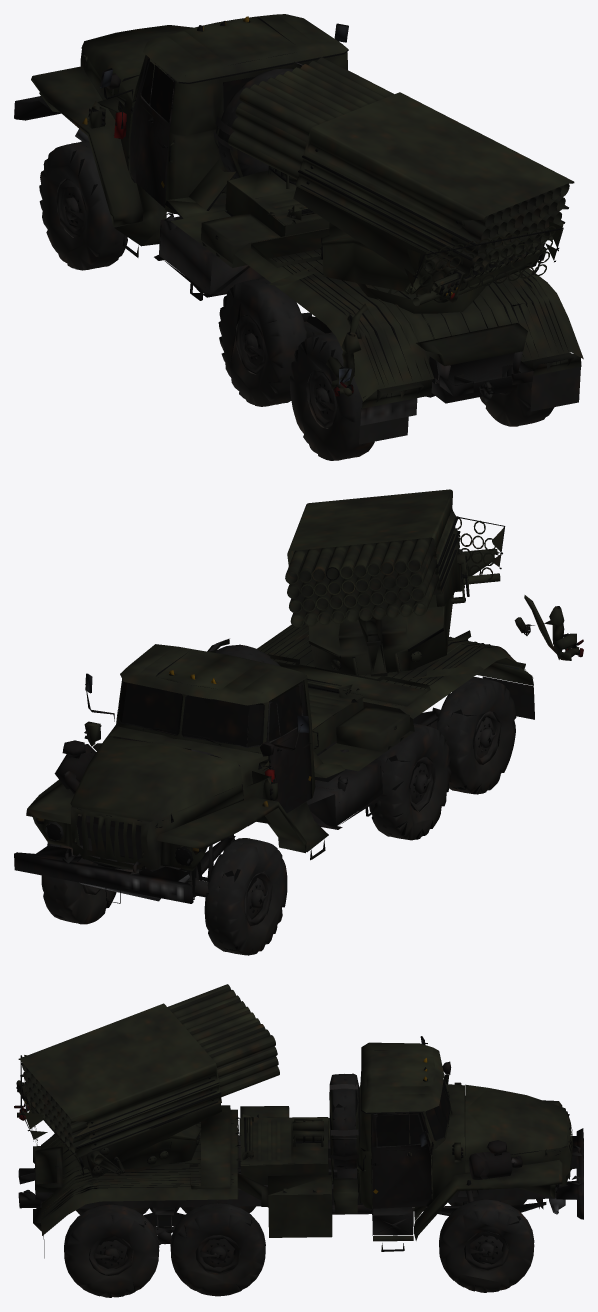
The model's file is grad-wreck.glb.
The picture shows the model from 3 angles, top to bottom: view 1: azimuth 30°, elevation 25°; view 2: azimuth 150°, elevation 25°; view 3: azimuth 270°, elevation 25°; orthographic projection. The views are drawn at different scales.
Parts seen in each view (by area): view 1: hull, turret; view 2: hull, turret; view 3: hull, turret.
Part boxes in pixels (x1,y1,x2,y2): hull: (14, 14, 583, 460); turret: (228, 57, 574, 306); hull: (14, 516, 583, 955); turret: (285, 489, 500, 679); hull: (14, 1036, 583, 1297); turret: (16, 984, 279, 1177).
Bounding box in the file's own units: 3.11 × 3.42 × 7.35.
1 material, 1 textured.
